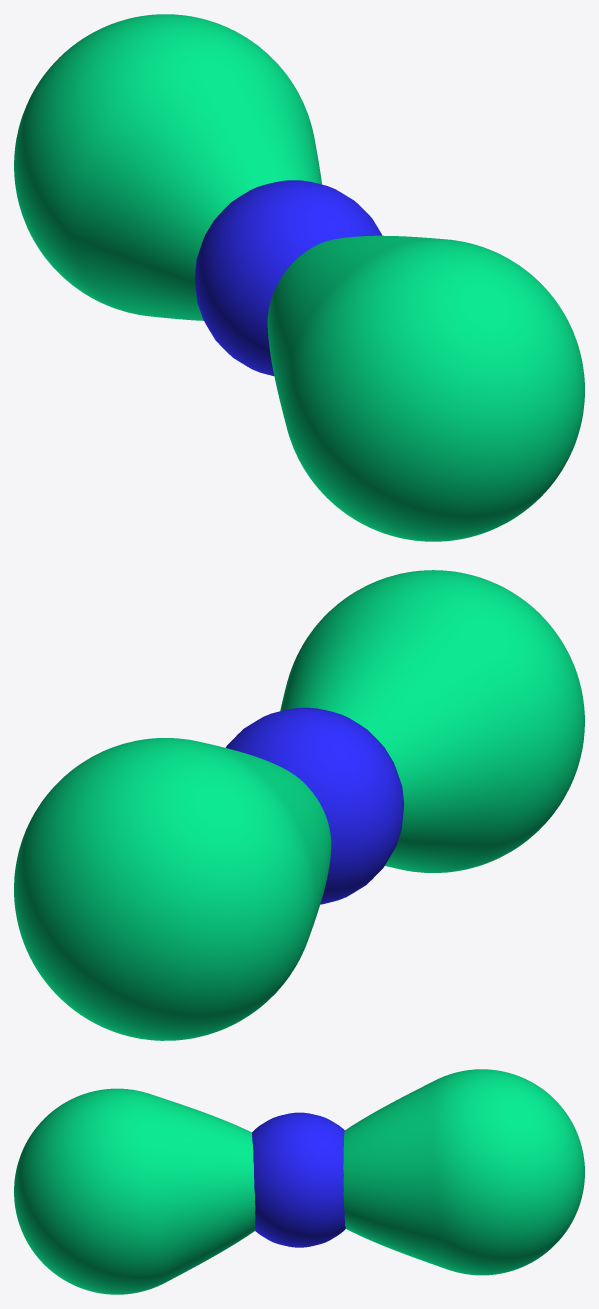
3 views of the same model, one above another, from view 1: azimuth 30°, elevation 25°; view 2: azimuth 150°, elevation 25°; view 3: azimuth 270°, elevation 25° (orthographic). The views are drawn at different scales.
Visible parts, largest first — view 1: Sphere.002, Sphere.001, Sphere; view 2: Sphere.001, Sphere.002, Sphere; view 3: Sphere.001, Sphere.002, Sphere.
Part boxes in pixels (x1,y1,x2,y2): Sphere.002: (267, 235, 584, 541); Sphere.001: (14, 14, 321, 320); Sphere: (194, 180, 382, 375); Sphere.001: (14, 738, 331, 1040); Sphere.002: (280, 570, 584, 872); Sphere: (225, 707, 404, 904); Sphere.001: (343, 1069, 584, 1275); Sphere.002: (14, 1088, 255, 1294); Sphere: (252, 1112, 345, 1247).
Bounding box in the file's own units: 2 × 2.21 × 5.54.
Materials: 3 (1 with a texture image).
